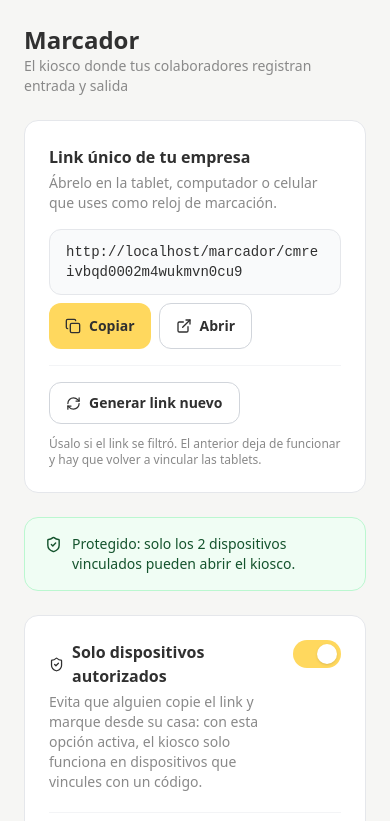
Test: cambiar el link del kiosco › al confirmar, pide el link nuevo y lo muestra
Click the button "Generar link nuevo" at (144,403), box 49,382 -> 240,424
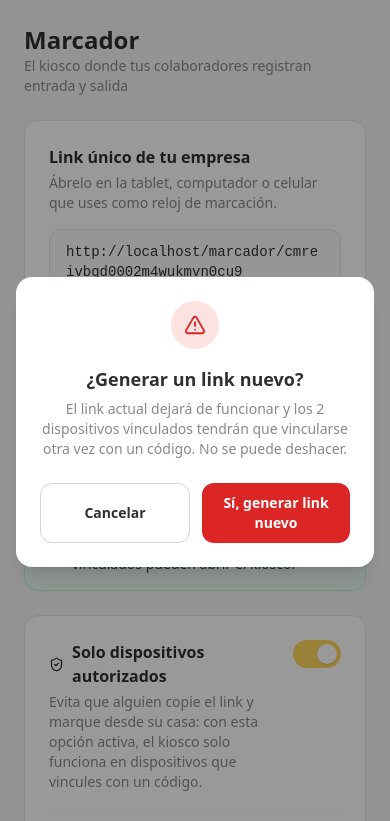
Click the button "Sí, generar link nuevo" at (276,513), box 202,483 -> 350,543
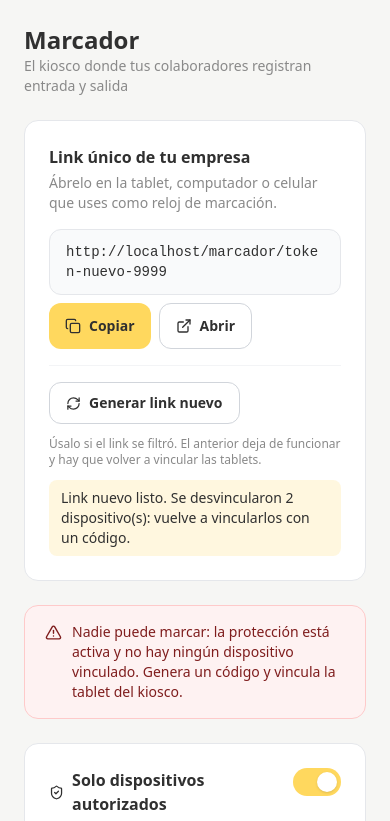
Expected: the text "http://localhost/marcador/token-nuevo-9999" is shown, 49,229 -> 341,295
